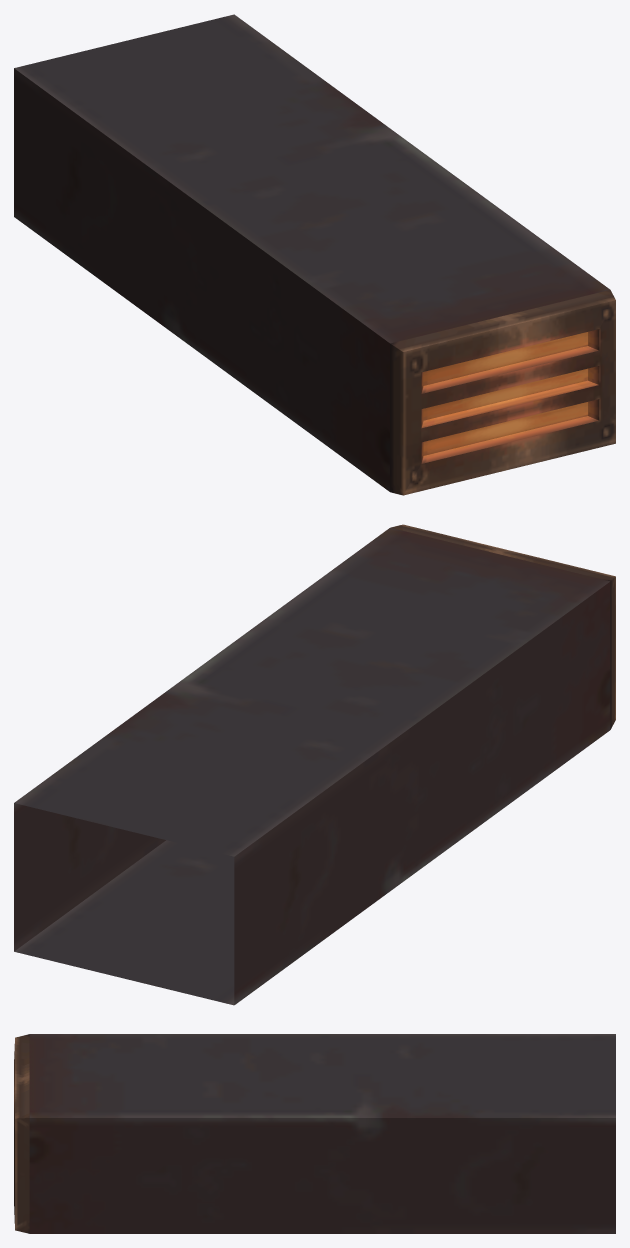
Rendered from sn_jixie_tongfengkou_001.FBX.
The picture shows the model from 3 angles, top to bottom: view 1: azimuth 30°, elevation 25°; view 2: azimuth 150°, elevation 25°; view 3: azimuth 270°, elevation 25°; orthographic projection. The views are drawn at different scales.
Parts seen in each view (by area): view 1: sn_jixie_tongfengkou_001; view 2: sn_jixie_tongfengkou_001; view 3: sn_jixie_tongfengkou_001.
Part boxes in pixels (<box>): sn_jixie_tongfengkou_001: <box>14,14,615,495</box>; sn_jixie_tongfengkou_001: <box>14,524,615,1005</box>; sn_jixie_tongfengkou_001: <box>14,1034,615,1233</box>.
Size of the model in its own units: 5.65 by 17.13 by 3.64.
